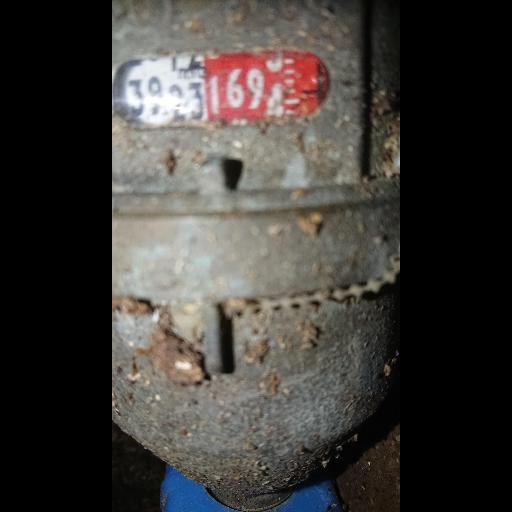1: (202, 54, 226, 122)
2: (161, 57, 189, 126)
3: (121, 60, 147, 127), (183, 55, 208, 124)
4: (263, 50, 291, 120)
6: (221, 52, 248, 122)
9: (244, 52, 267, 121), (143, 58, 165, 125)
border_water_meter_number: (113, 46, 334, 131)
